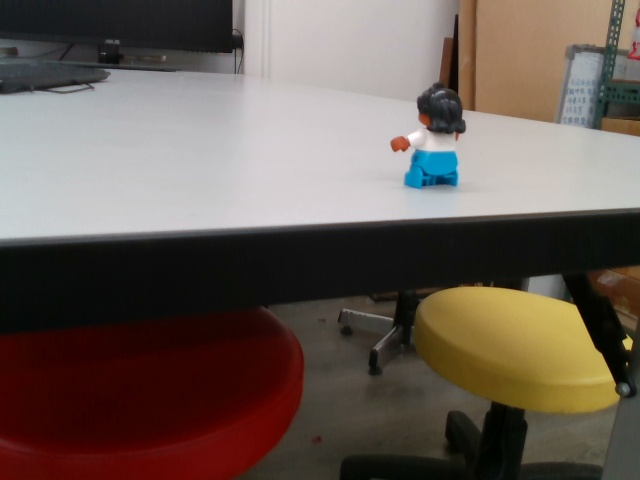people: (388, 82, 474, 194)
